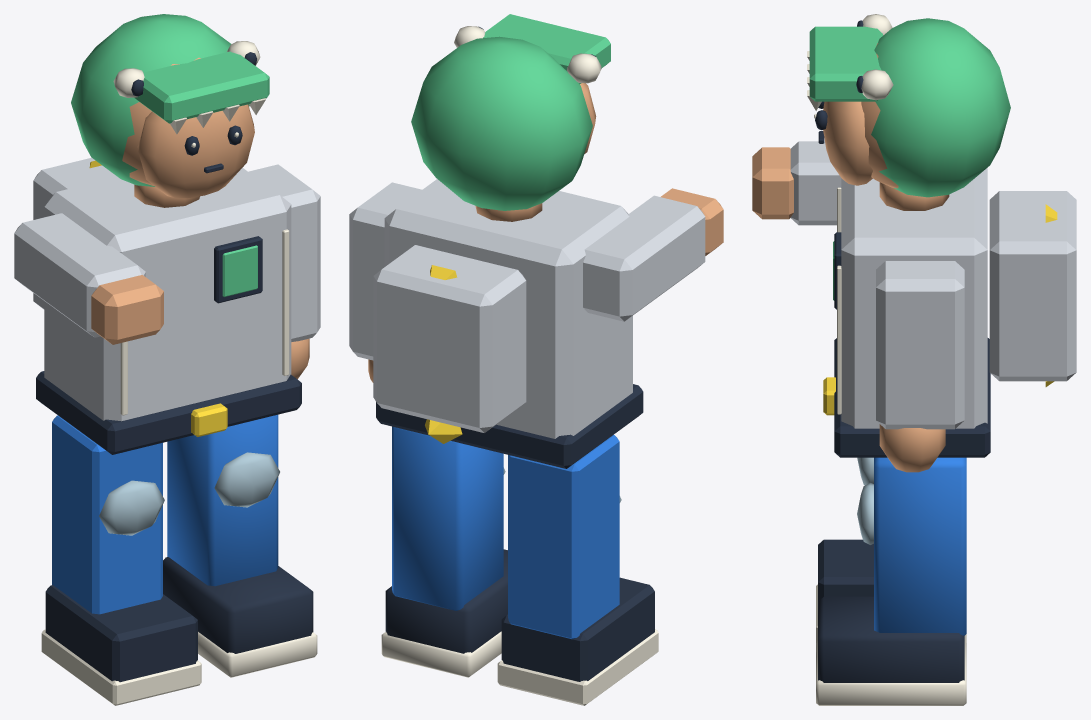
File: fps_char_7.glb
The picture shows the model from 3 angles, left to right: view 1: azimuth 30°, elevation 25°; view 2: azimuth 150°, elevation 25°; view 3: azimuth 270°, elevation 25°; orthographic projection.
Visible parts, largest first — view 1: detail_Paint, leg_r, leg_l, detail_Apple, detail_Ink navy, detail_Warm vinyl, arm_l, right_hand, detail_Vanilla plastic, head_core, detail_Lemon; view 2: detail_Paint, leg_r, detail_Apple, leg_l, detail_Ink navy, arm_l, right_hand, detail_Vanilla plastic, detail_Warm vinyl, detail_Lemon; view 3: detail_Paint, leg_l, detail_Apple, arm_l, detail_Ink navy, detail_Warm vinyl, leg_r, right_hand, detail_Vanilla plastic, head_core, detail_Lemon.
Part boxes in pixels (x1,y1,x2,y2): detail_Paint: [14, 157, 291, 421]; leg_r: [41, 415, 201, 705]; leg_l: [163, 414, 317, 677]; detail_Apple: [71, 14, 269, 296]; detail_Ink navy: [36, 52, 301, 454]; detail_Warm vinyl: [134, 104, 254, 207]; arm_l: [248, 164, 320, 379]; right_hand: [91, 275, 163, 344]; detail_Vanilla plastic: [113, 41, 289, 415]; head_core: [122, 57, 200, 185]; detail_Lemon: [89, 160, 227, 436]; detail_Paint: [373, 179, 705, 438]; leg_r: [497, 435, 658, 705]; detail_Apple: [411, 14, 610, 210]; leg_l: [381, 426, 507, 677]; detail_Ink navy: [376, 26, 643, 468]; arm_l: [349, 182, 421, 382]; right_hand: [661, 188, 723, 255]; detail_Vanilla plastic: [454, 26, 601, 83]; detail_Warm vinyl: [475, 83, 596, 221]; detail_Lemon: [425, 265, 462, 443]; detail_Paint: [790, 141, 1076, 428]; leg_l: [816, 457, 966, 705]; detail_Apple: [809, 18, 1010, 300]; arm_l: [876, 261, 964, 472]; detail_Ink navy: [815, 20, 990, 457]; detail_Warm vinyl: [823, 101, 949, 210]; leg_r: [816, 457, 966, 642]; right_hand: [752, 147, 793, 219]; detail_Vanilla plastic: [807, 14, 893, 414]; head_core: [861, 43, 898, 188]; detail_Lemon: [823, 204, 1057, 415].
Size of the model in its own units: 0.84 by 1.8 by 0.84.
